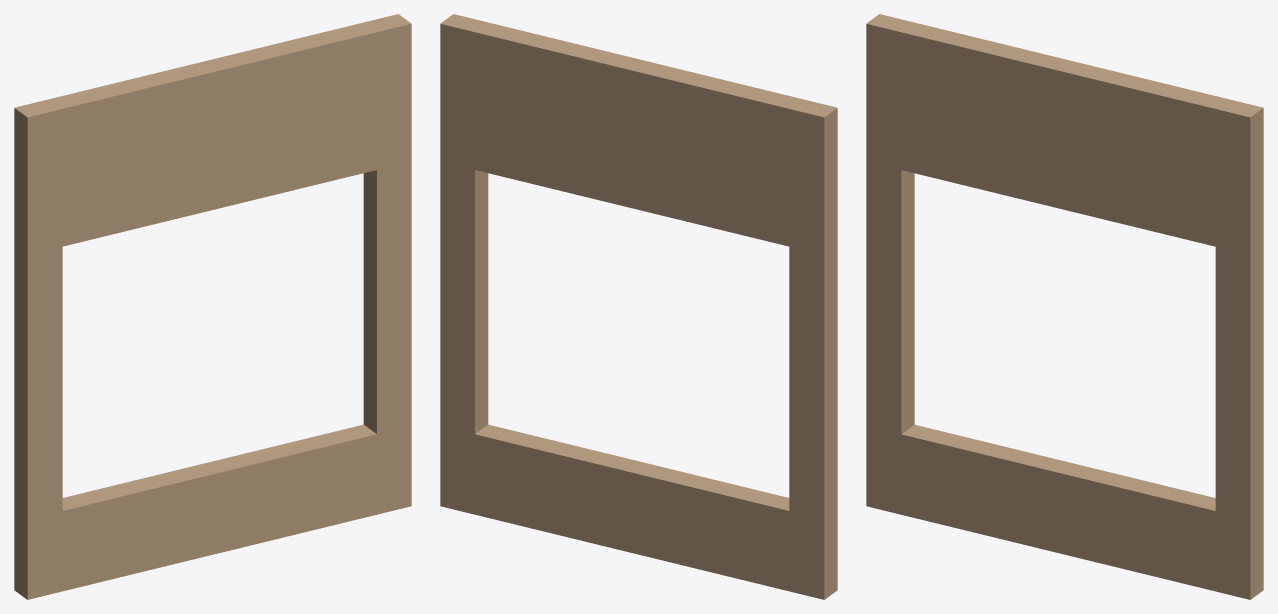
Rendered from Wall2_C1_05.fbx.
The picture shows the model from 3 angles, left to right: view 1: azimuth 30°, elevation 25°; view 2: azimuth 150°, elevation 25°; view 3: azimuth 330°, elevation 25°; orthographic projection.
Parts seen in each view (by area): view 1: Wall2_C1_05; view 2: Wall2_C1_05; view 3: Wall2_C1_05.
Part boxes in pixels (box(x1,y1,x2,y2)): Wall2_C1_05: box(14, 14, 411, 599); Wall2_C1_05: box(440, 14, 837, 599); Wall2_C1_05: box(866, 14, 1263, 599).
Bounding box in the file's own units: 250 × 300 × 15.
